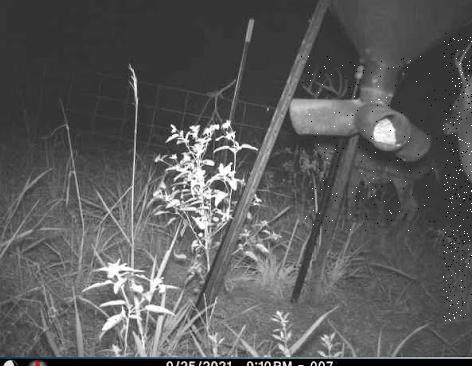Deer: (301, 56, 437, 231), (443, 32, 472, 321)
